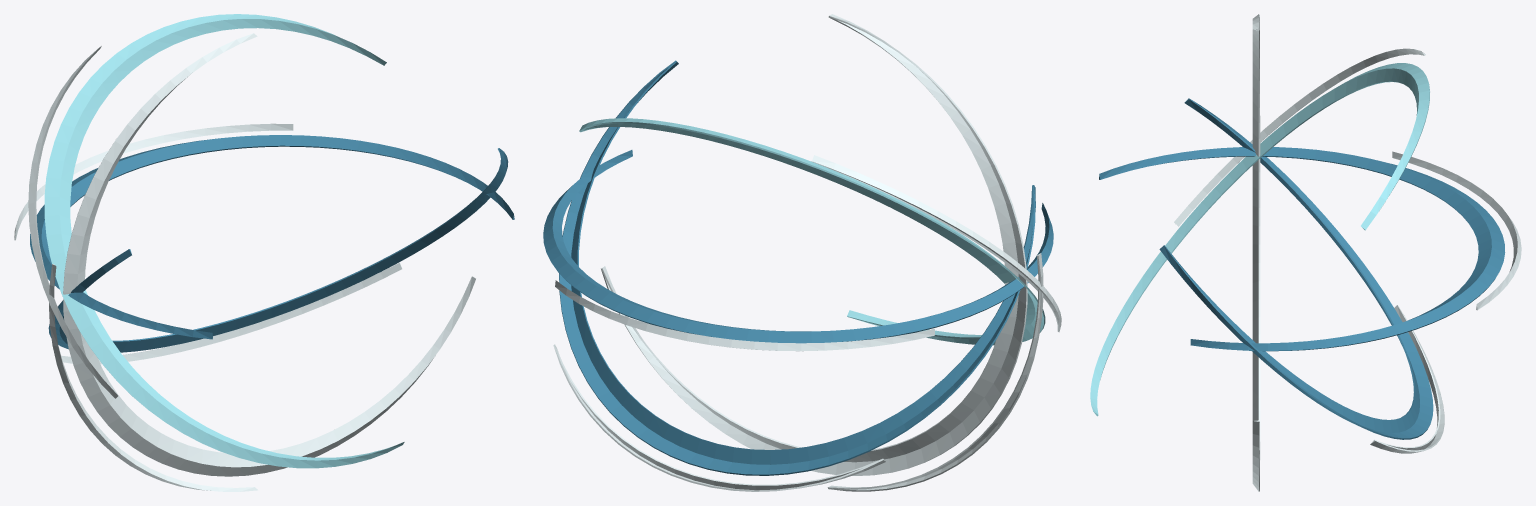
The model's file is VFX_52_TempestaOcchioUragano.fbx.
The picture shows the model from 3 angles, left to right: view 1: azimuth 30°, elevation 25°; view 2: azimuth 150°, elevation 25°; view 3: azimuth 270°, elevation 25°; orthographic projection. The views are drawn at different scales.
Parts seen in each view (by area): view 1: VFX_52_TempestaOcchioUragano; view 2: VFX_52_TempestaOcchioUragano; view 3: VFX_52_TempestaOcchioUragano.
Part boxes in pixels (left/top/right/bottom): VFX_52_TempestaOcchioUragano: left=14, top=14, right=514, bottom=491; VFX_52_TempestaOcchioUragano: left=543, top=14, right=1061, bottom=491; VFX_52_TempestaOcchioUragano: left=1090, top=14, right=1521, bottom=491.
Size of the model in its own units: 291 by 284 by 251.
Materials: 1 (1 with a texture image).
